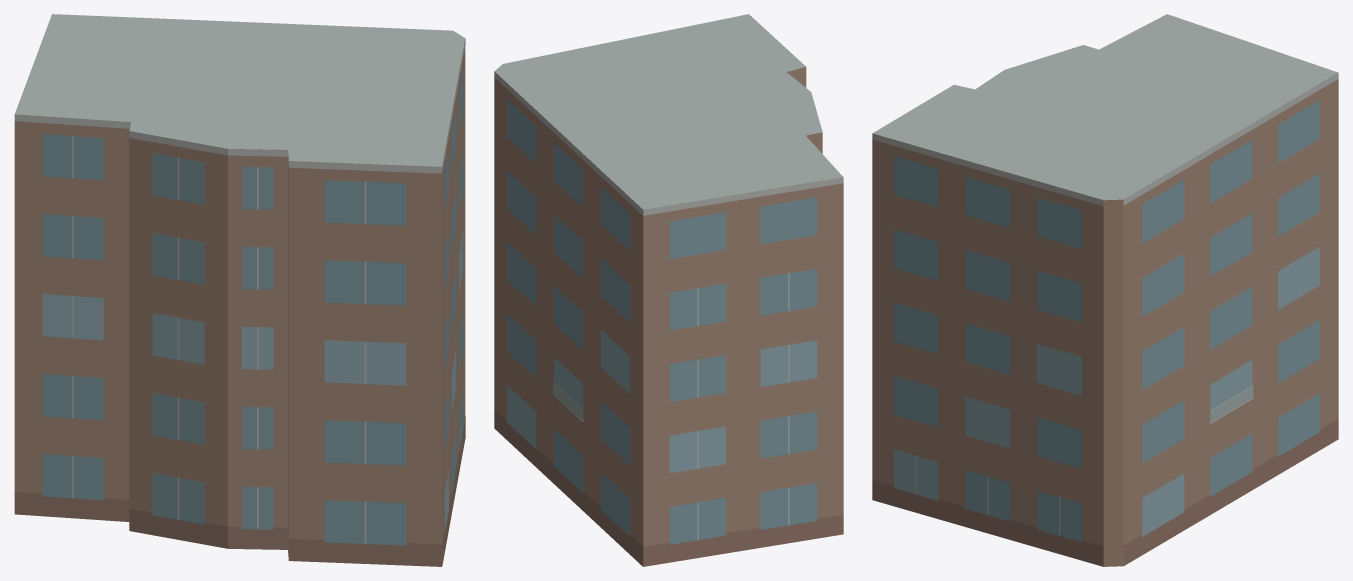
The model's file is survey-upis-33016031.glb.
3 views of the same model, side by side, from view 1: azimuth 30°, elevation 25°; view 2: azimuth 150°, elevation 25°; view 3: azimuth 270°, elevation 25° (orthographic). The views are drawn at different scales.
Parts seen in each view (by area): view 1: survey-upis-33016031.tmp; view 2: survey-upis-33016031.tmp; view 3: survey-upis-33016031.tmp.
Part boxes in pixels (bbox=[...]): survey-upis-33016031.tmp: bbox=[14, 14, 465, 566]; survey-upis-33016031.tmp: bbox=[494, 14, 843, 566]; survey-upis-33016031.tmp: bbox=[872, 14, 1338, 566].
Bounding box in the file's own units: 15.69 × 14.4 × 16.6.
